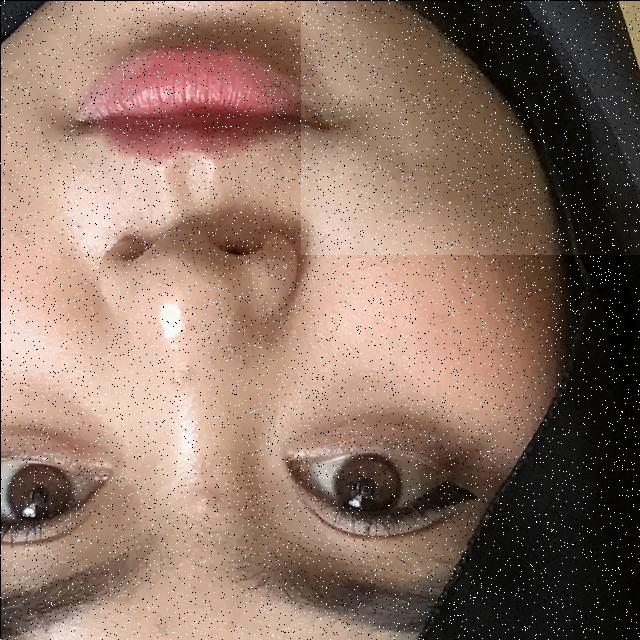kapan: (300, 0, 640, 254)
